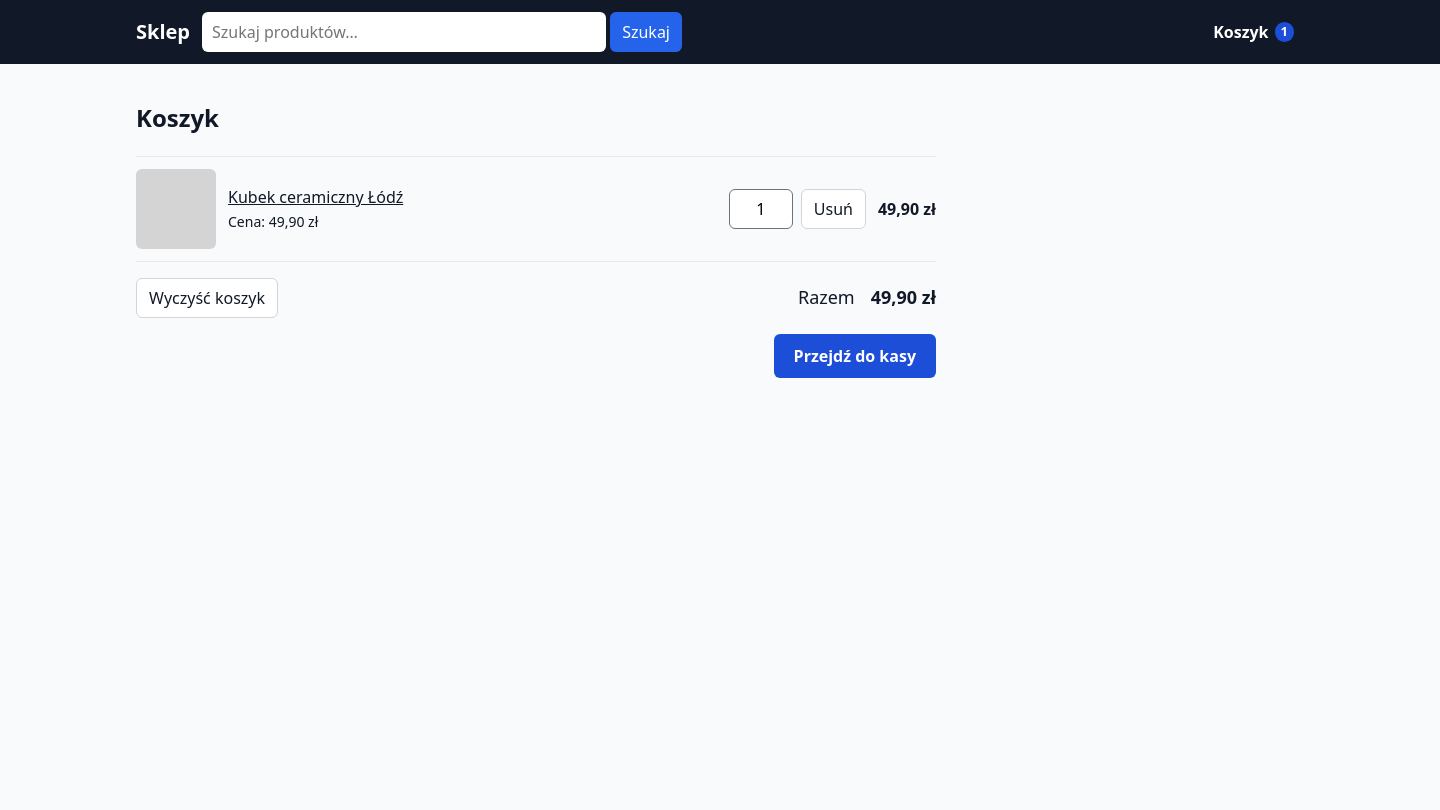
Test: cart page › explains a change made in another tab and reloads the cart
Click the button with aria-label "Usuń: Kubek ceramiczny Łódź" at (833, 209), box [801, 189, 866, 229]
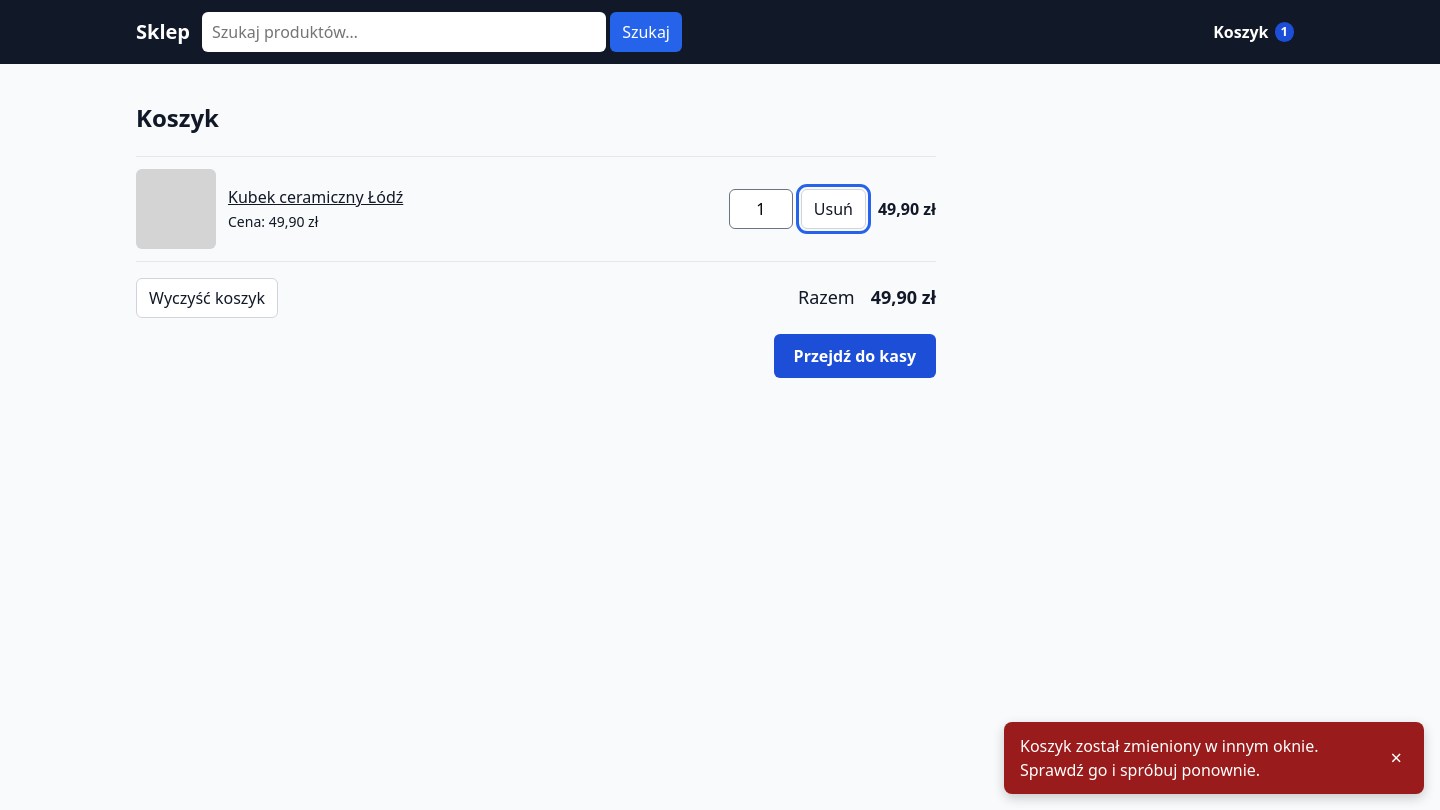
expect the text "Koszyk został zmieniony w innym oknie. Sprawdź go i spróbuj ponownie." is shown: met, box [1020, 735, 1318, 781]
